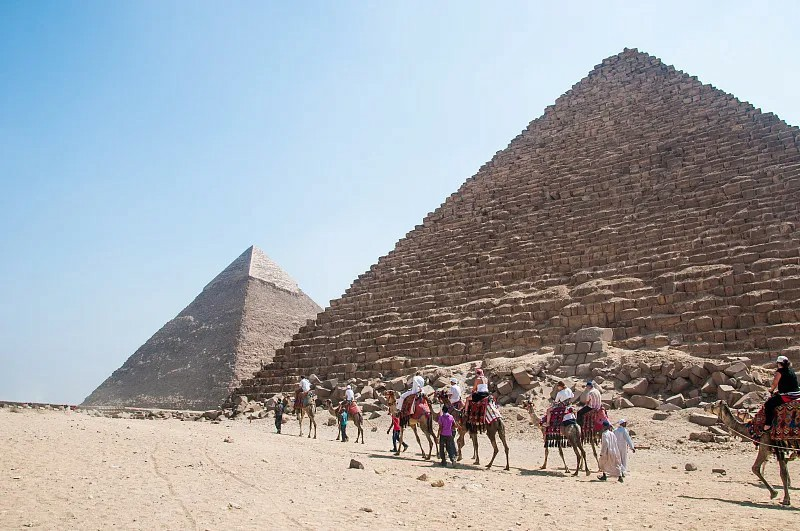Pyramid: (221, 47, 798, 410), (75, 246, 323, 407)
